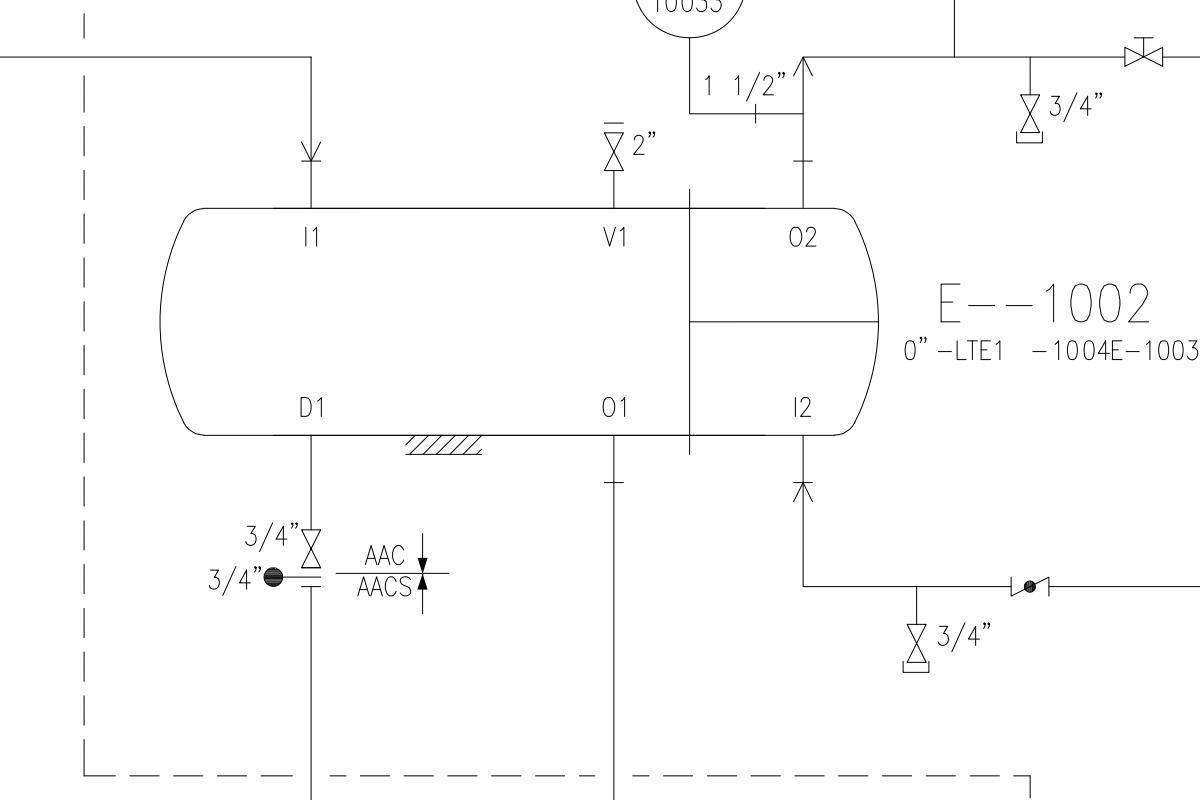E: (147, 200, 885, 445)
EC: (1011, 70, 1049, 146), (899, 604, 936, 677)
GV: (293, 522, 325, 573), (601, 128, 627, 177), (903, 616, 928, 666), (1017, 90, 1043, 136)
HV: (1116, 27, 1167, 70)
